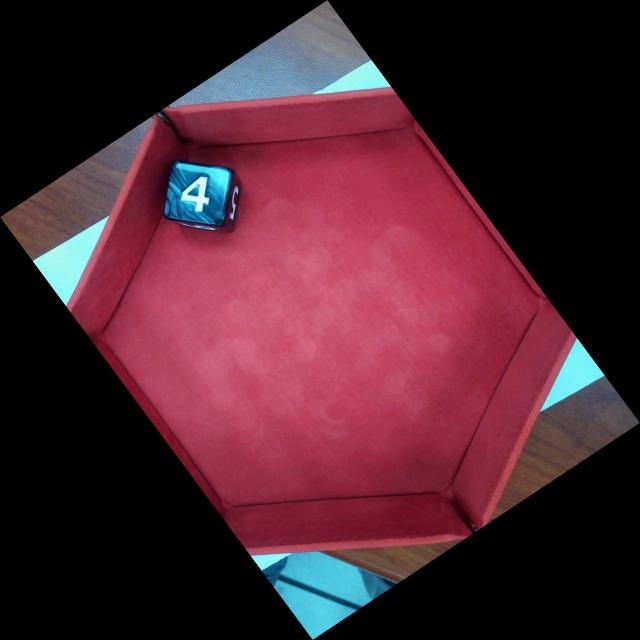dice: (161, 159, 231, 226)
